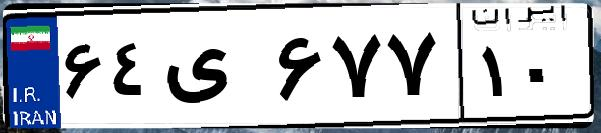0: (525, 38, 570, 115)
1: (475, 38, 525, 113)
4: (110, 28, 158, 98)
6: (270, 28, 330, 110), (57, 26, 110, 100)
7: (385, 28, 445, 110), (330, 28, 385, 110)
ی: (158, 20, 270, 120)
